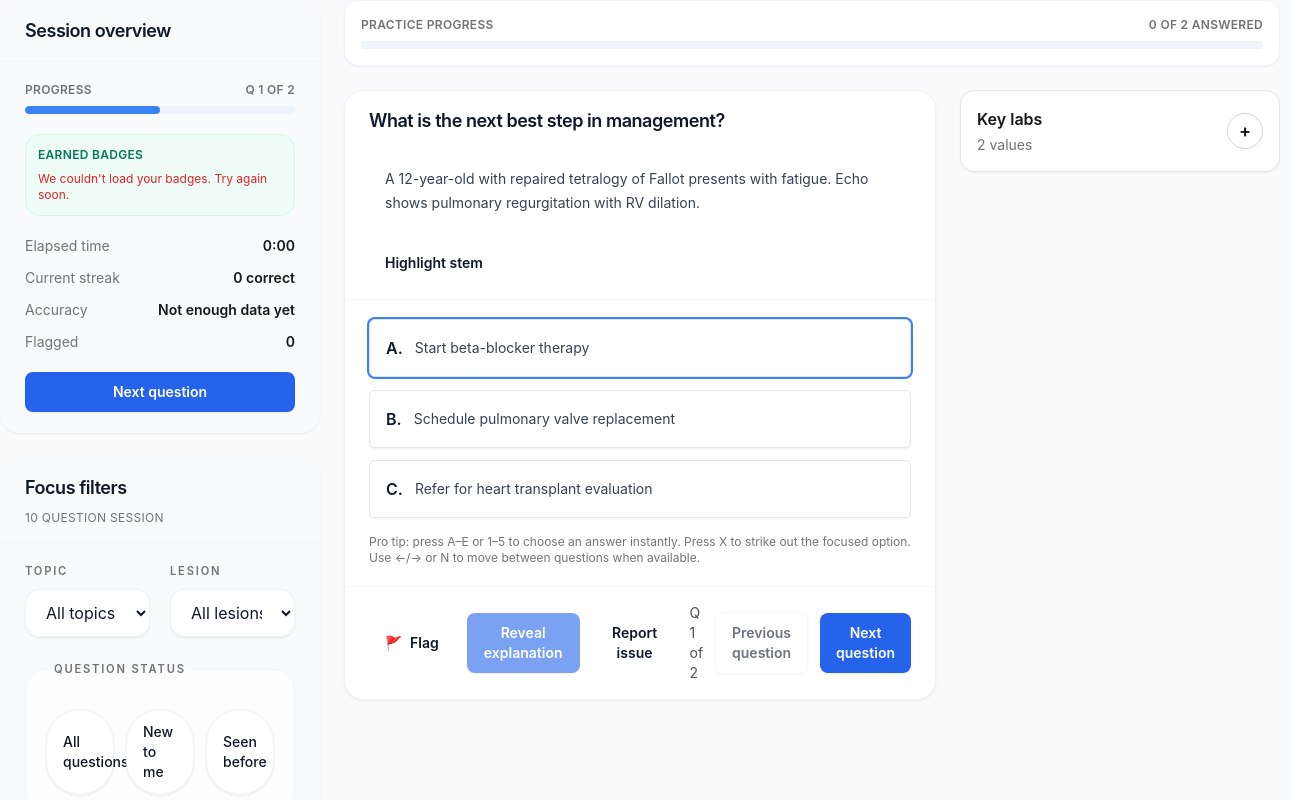
Test: practice flow › walks through a practice session, persisting progress and advancing
Expected: the heading "What is the next best step in management?" is shown, [369,110,725,131]
Click the button "🚩 Flag": [412, 643] box [369,623,455,663]
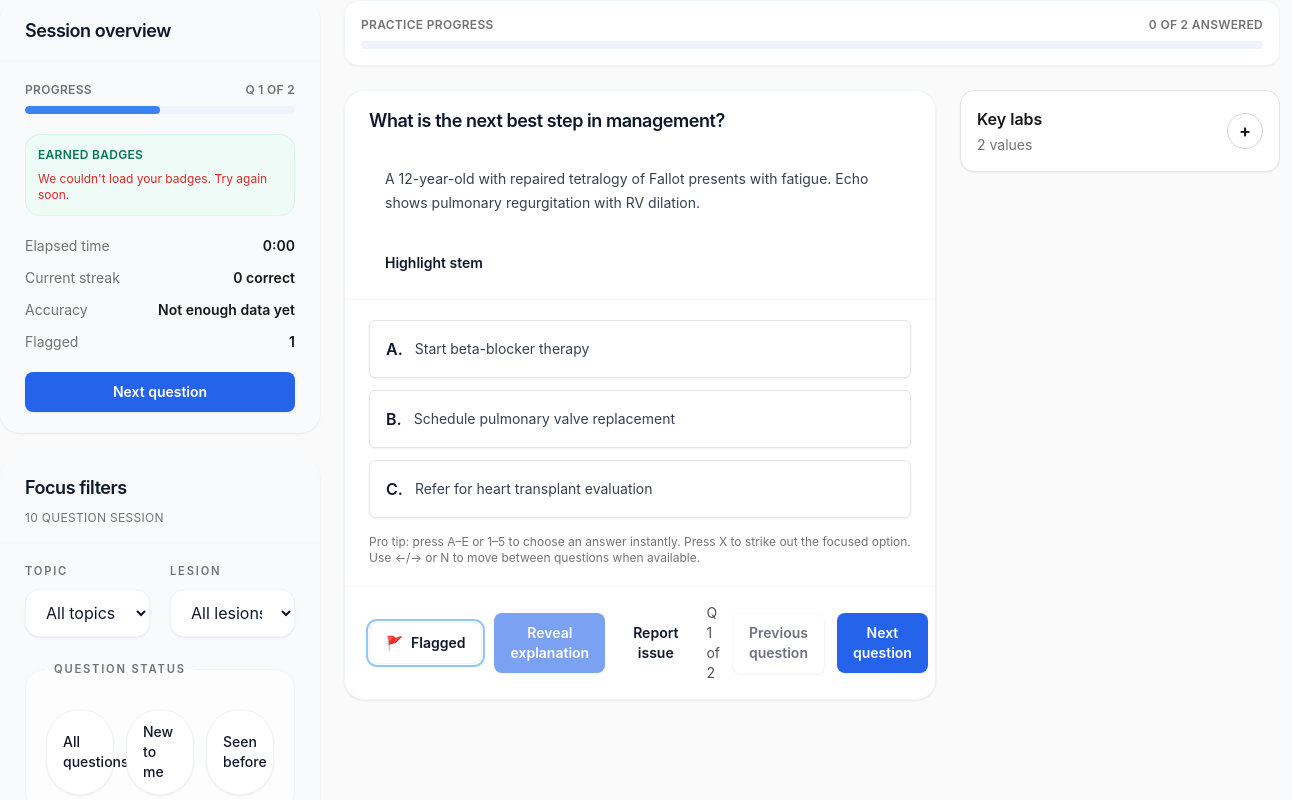
Click the button "B. Schedule pulmonary valve replacement": [640, 419] box [369,390,911,448]
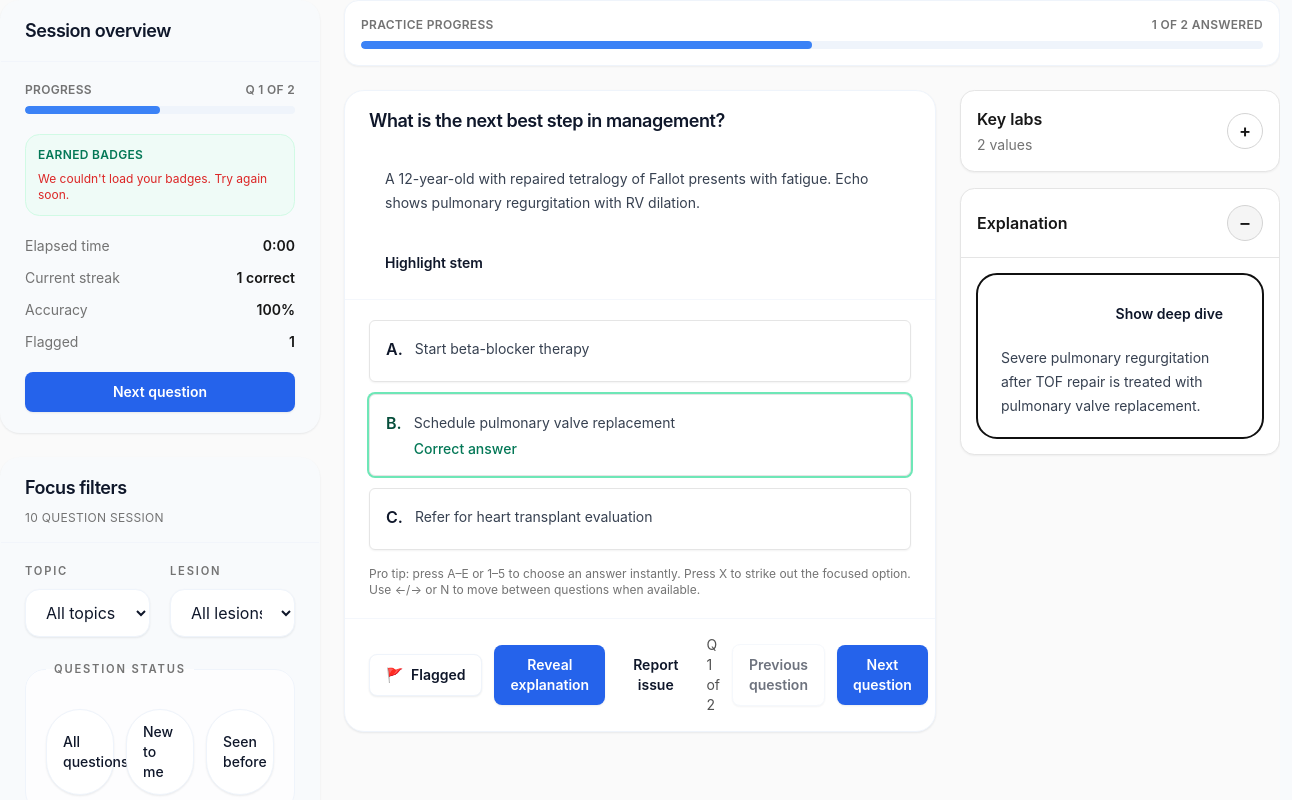
Click the 2nd button "Next question": [882, 675] box [837,645,928,705]
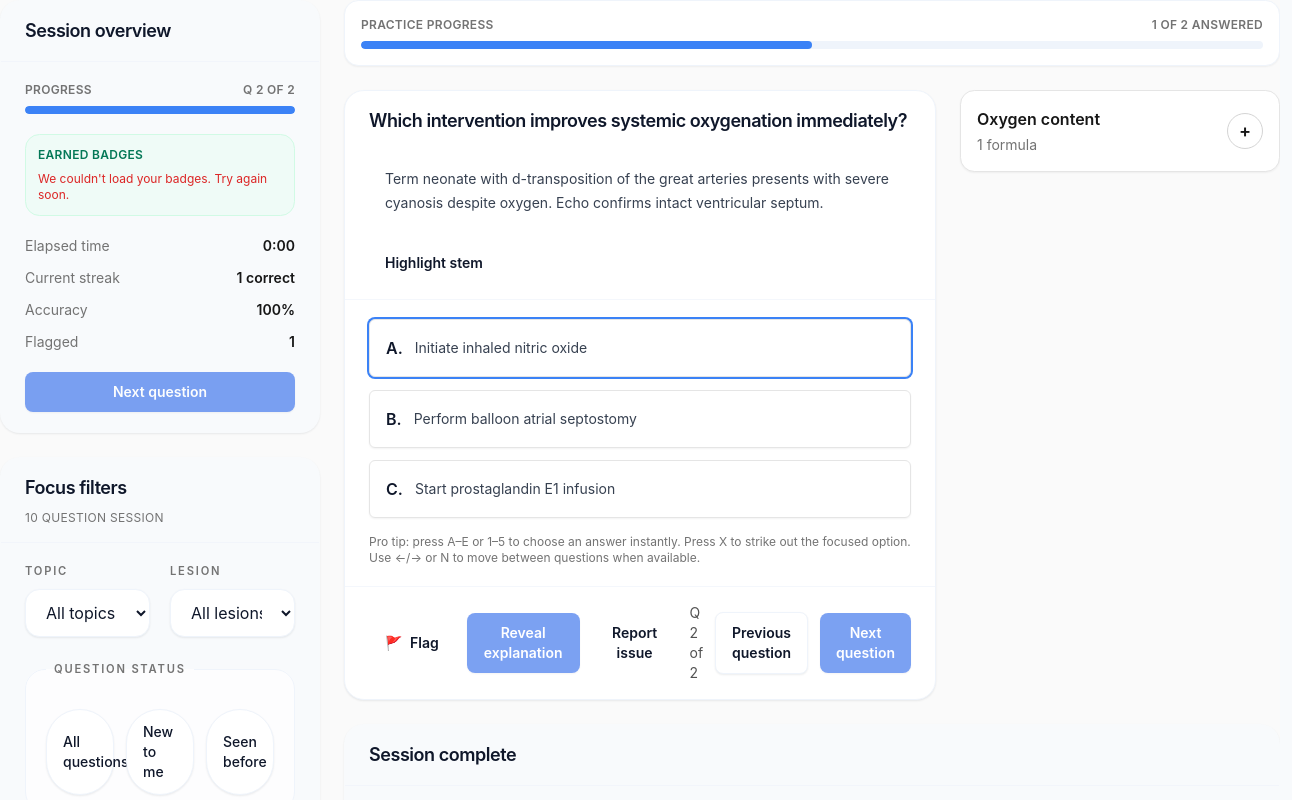
Result: the heading "Which intervention improves systemic oxygenation immediately?" is shown at [369,107,911,135]
